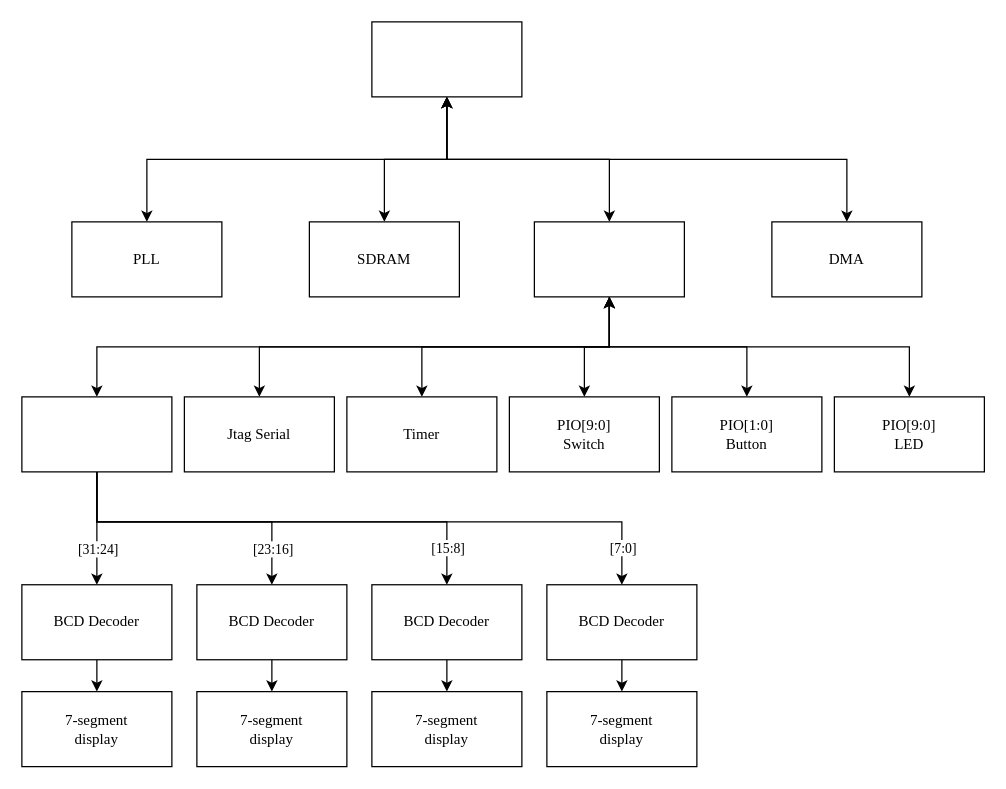
Some shapes in this 1006 by 789 pixel diagram are drawn without their labels. Each missing label, with the centre of its shape:
APB: (x=608, y=259)
NIOS2 CPU: (x=446, y=59)
PIO[31:0] SEG7_BCD: (x=96, y=434)
